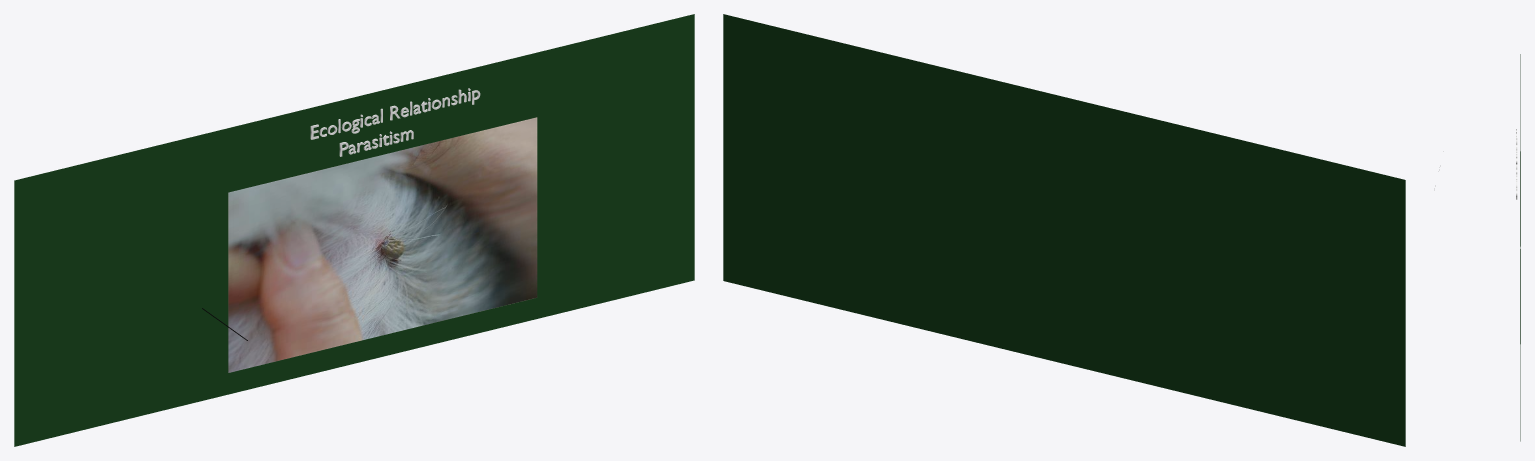
File: parasitism.gltf
3 renders of one model, left to right at view 1: azimuth 30°, elevation 25°; view 2: azimuth 150°, elevation 25°; view 3: azimuth 270°, elevation 25°, orthographic. The views are drawn at different scales.
Visible parts, largest first — view 1: Plane.013, Plane, Text.008; view 2: Plane.013; view 3: Plane.013, Text.008.
Boxes of the visible parts, box(x1,y1,x2,y2) form: Plane.013: box(14, 14, 694, 446); Plane: box(228, 117, 537, 372); Text.008: box(310, 88, 480, 139); Plane.013: box(723, 14, 1405, 446); Plane.013: box(1520, 54, 1520, 441); Text.008: box(1516, 129, 1517, 199).
Size of the model in its own units: 15.94 by 5.96 by 2.43.
Materials: 5 (1 with a texture image).
